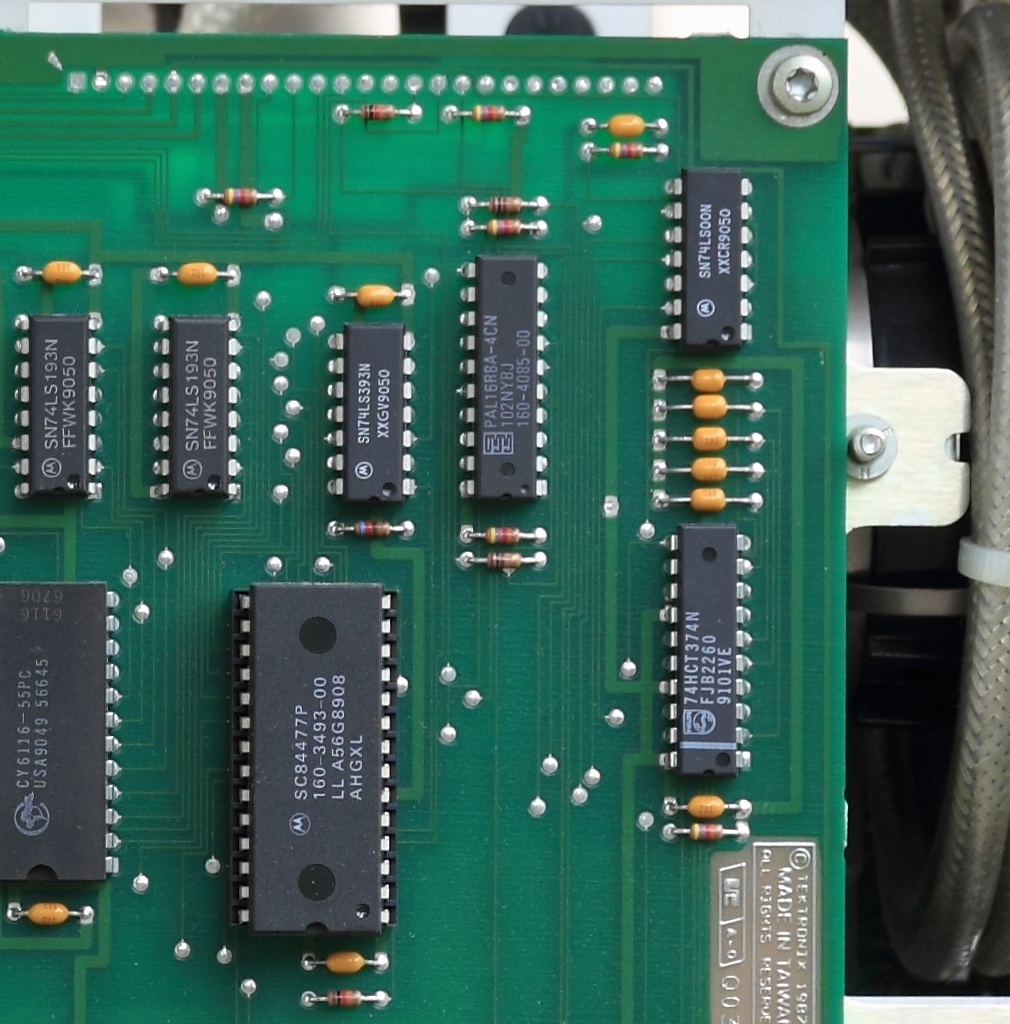Resistor: (681, 819, 731, 852), (346, 515, 401, 540), (216, 182, 268, 207), (479, 522, 529, 548), (354, 99, 401, 126), (600, 139, 654, 162), (461, 101, 515, 124), (321, 988, 369, 1011), (483, 217, 528, 241), (483, 194, 529, 217), (482, 550, 527, 573)
